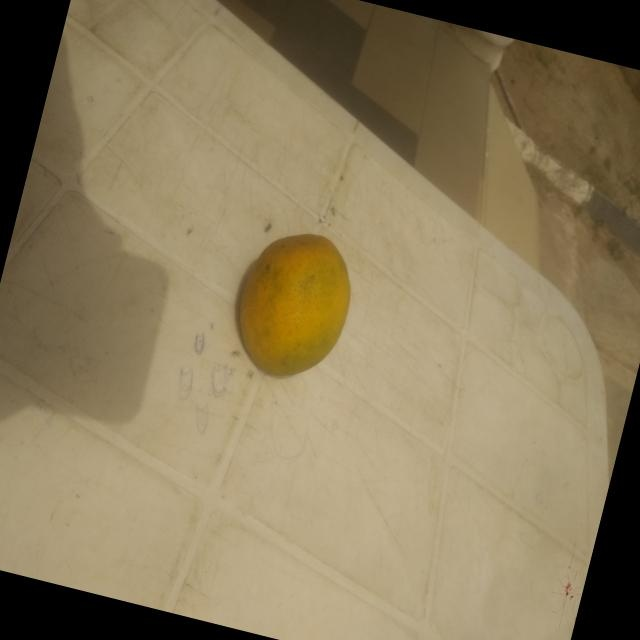agrume: (192, 196, 389, 419)
